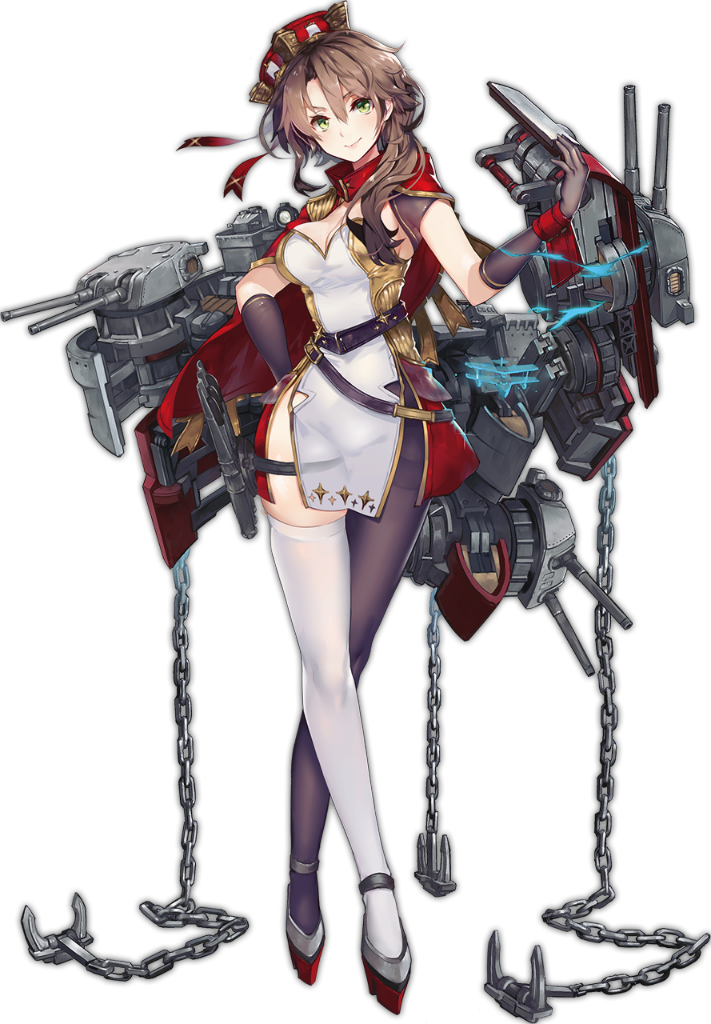person: (99, 12, 594, 770)
